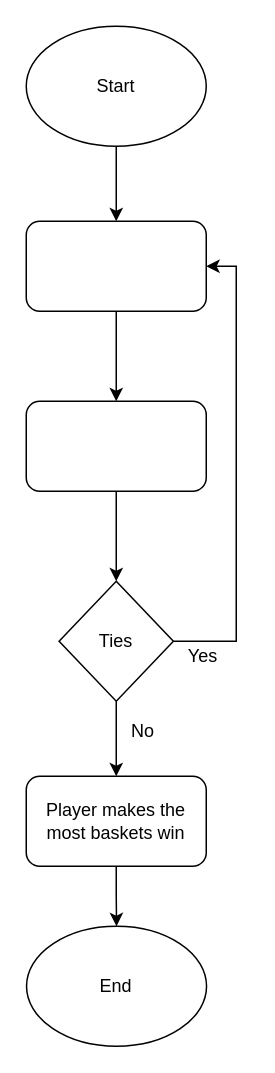
This 275x1073 diagram has some shape labels left out. The shapes that lost their labels are listed below. From the top down, each one's centre as x and y in pixels, then its label:
pixel 115 265: Player 1 four throws
pixel 115 445: Player 2 four throws
